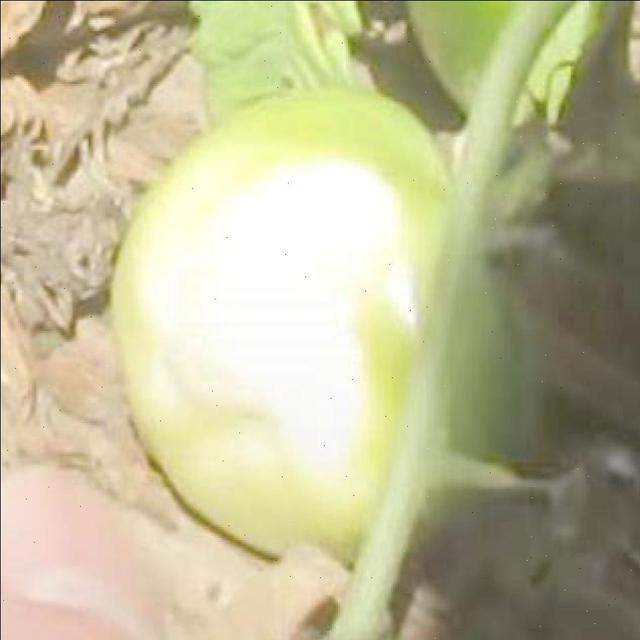Sunscald Fruit: (79, 94, 262, 341)
